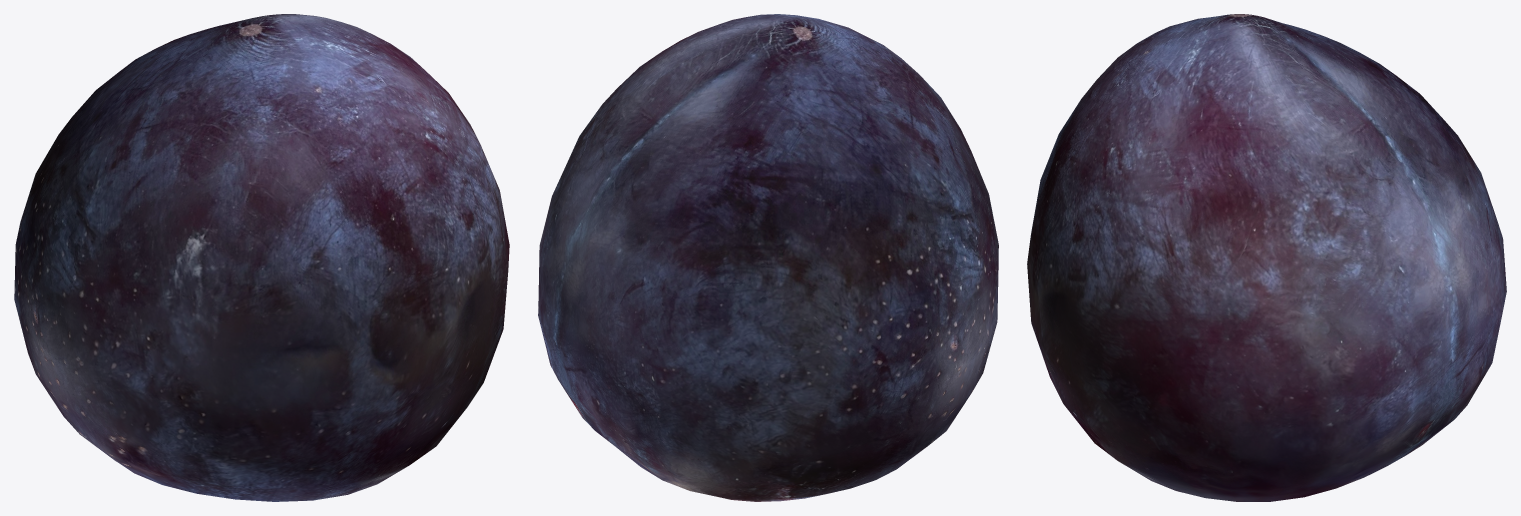
File: plum.glb
3 views of the same model, side by side, from view 1: azimuth 30°, elevation 25°; view 2: azimuth 150°, elevation 25°; view 3: azimuth 270°, elevation 25° (orthographic). The views are drawn at different scales.
Visible parts, largest first — view 1: Object_2; view 2: Object_2; view 3: Object_2.
Boxes of the visible parts, bbox=[...] form: Object_2: bbox=[14, 14, 509, 501]; Object_2: bbox=[538, 14, 998, 501]; Object_2: bbox=[1027, 14, 1506, 501].
Size of the model in its own units: 0.0563 by 0.0572 by 0.0568.
1 material, 1 textured.
